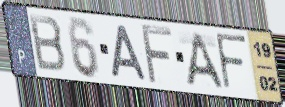6: (66, 15, 101, 81)
A: (184, 31, 225, 91), (110, 22, 150, 82)
B: (27, 13, 68, 75)
F: (139, 22, 175, 86), (213, 31, 249, 94)
